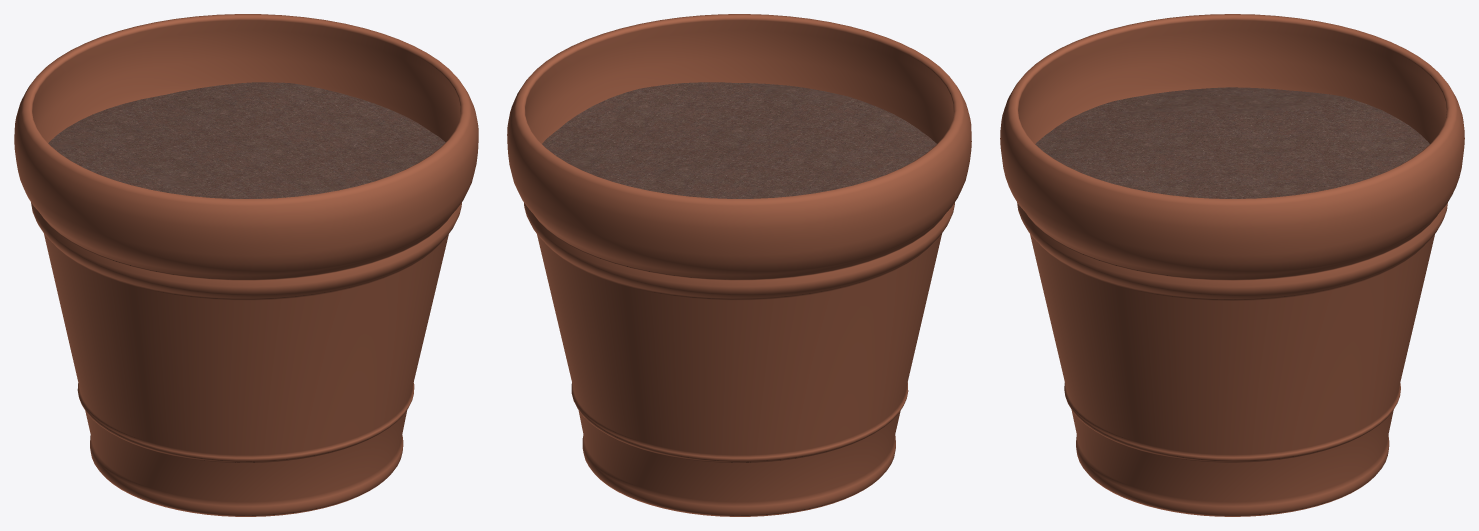
The model's file is Plant_Pot.fbx.
3 renders of one model, left to right at view 1: azimuth 30°, elevation 25°; view 2: azimuth 150°, elevation 25°; view 3: azimuth 270°, elevation 25°, orthographic.
Parts seen in each view (by area): view 1: Plant_Pot, Plant_Pot_Soil; view 2: Plant_Pot, Plant_Pot_Soil; view 3: Plant_Pot, Plant_Pot_Soil.
Boxes of the visible parts, x1,y1,x2,y2 form: Plant_Pot: (14,14,478,516); Plant_Pot_Soil: (48,82,445,198); Plant_Pot: (507,14,971,516); Plant_Pot_Soil: (542,82,936,198); Plant_Pot: (1000,14,1464,516); Plant_Pot_Soil: (1035,87,1429,198).
Bounding box in the file's own units: 0.4479 × 0.3678 × 0.4479.
